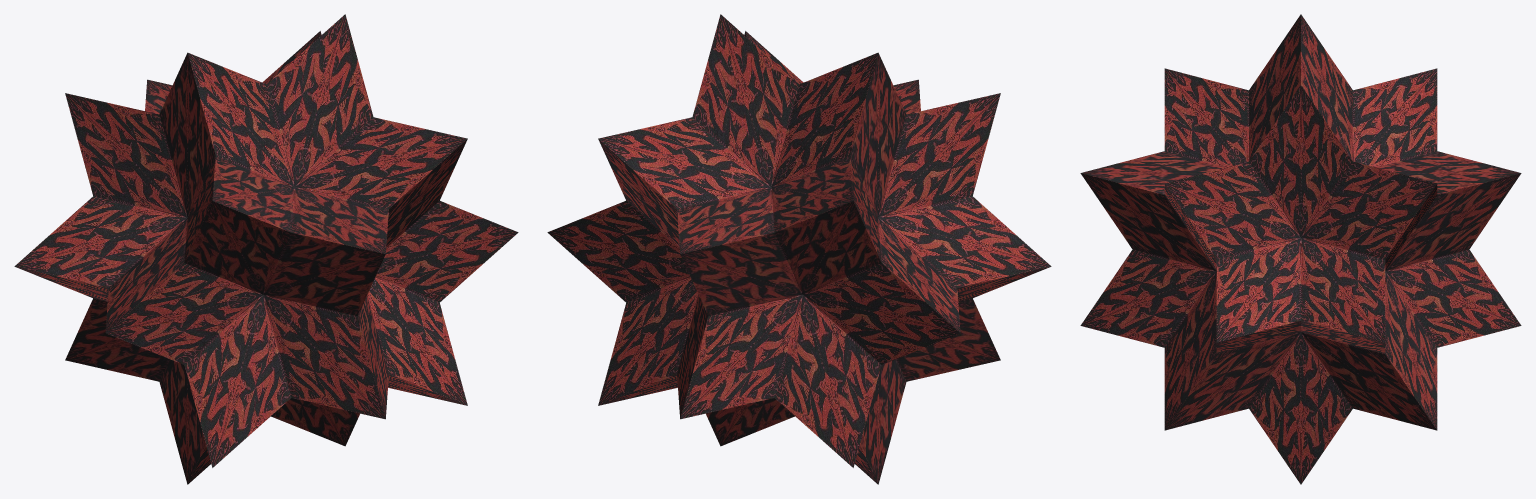
Rendered from RhombicHexecontahedron2.obj.
3 views of the same model, side by side, from view 1: azimuth 30°, elevation 25°; view 2: azimuth 150°, elevation 25°; view 3: azimuth 270°, elevation 25° (orthographic). The views are drawn at different scales.
Size of the model in its own units: 4.45 by 4.45 by 4.45.
Materials: 1 (1 with a texture image).
